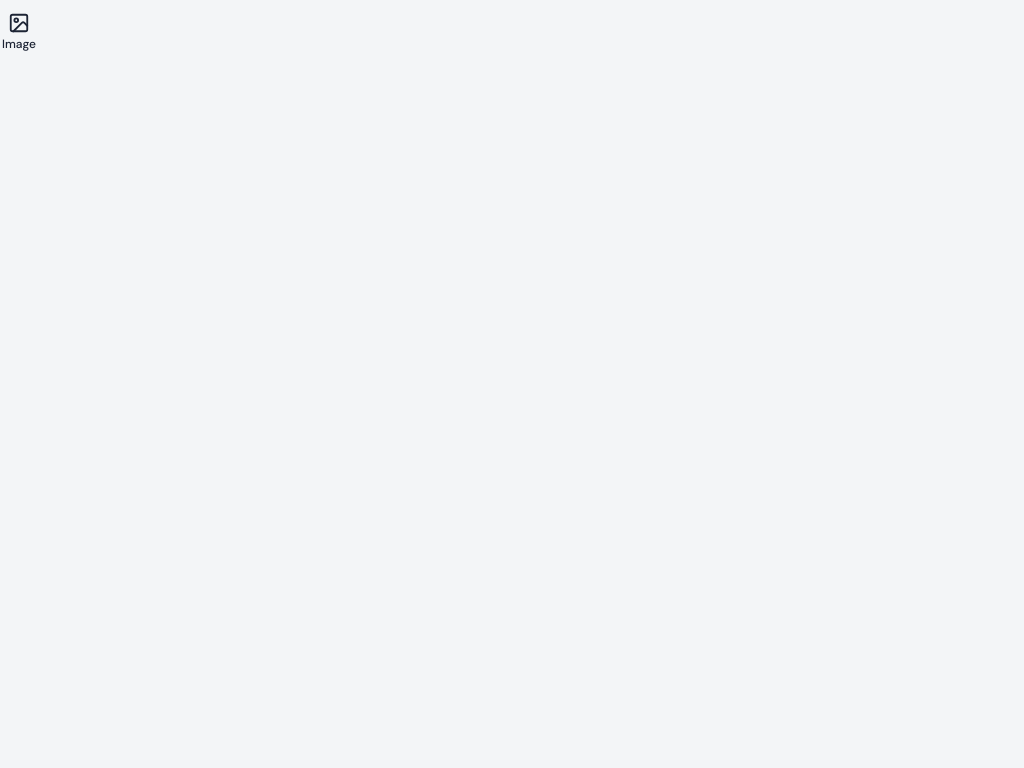
Test: ImageToolbar uploads › edits a selected image without the insert controls
Later steps or results of the test are not shown.
Click the button with aria-label "Insert image": (19, 32) x1=0 y1=0 x2=38 y2=64
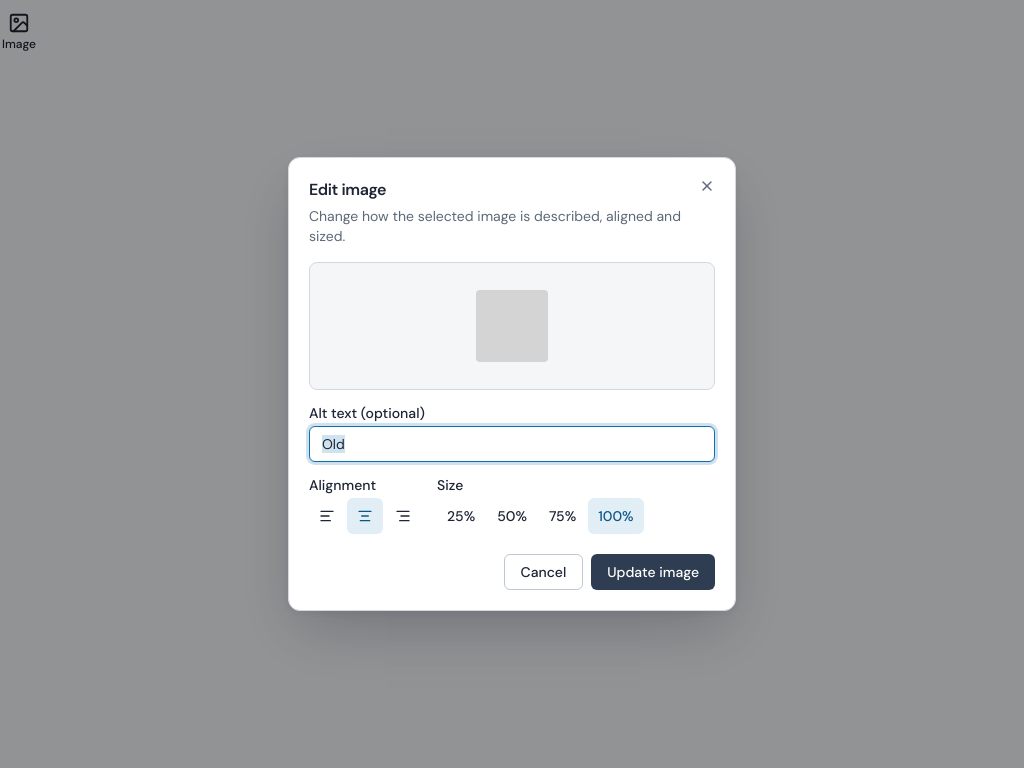
Expected: the field labelled "Alt text (optional)" holds "Old", x1=309 y1=426 x2=715 y2=462
